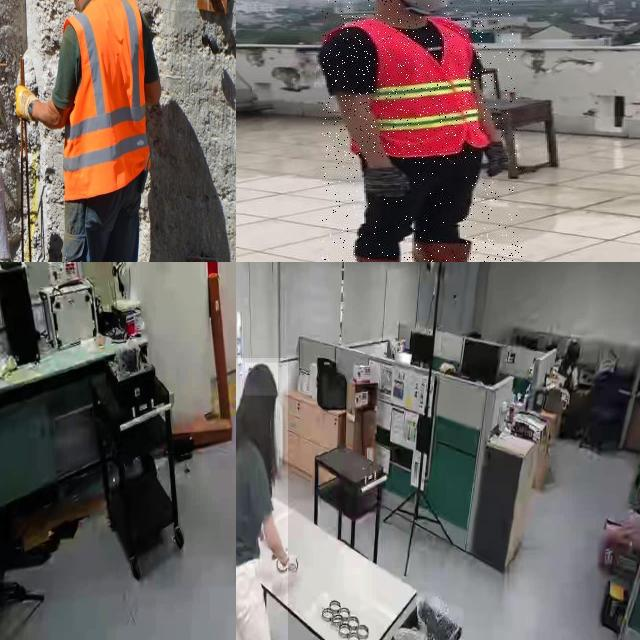No_Ear-Protection: (67, 0, 85, 7)
boots: (414, 239, 522, 262)
hand_glove: (274, 542, 300, 580)
head_nohelmet: (245, 362, 279, 397)
person: (322, 0, 517, 262), (236, 358, 288, 640)
vest: (322, 18, 486, 158)
